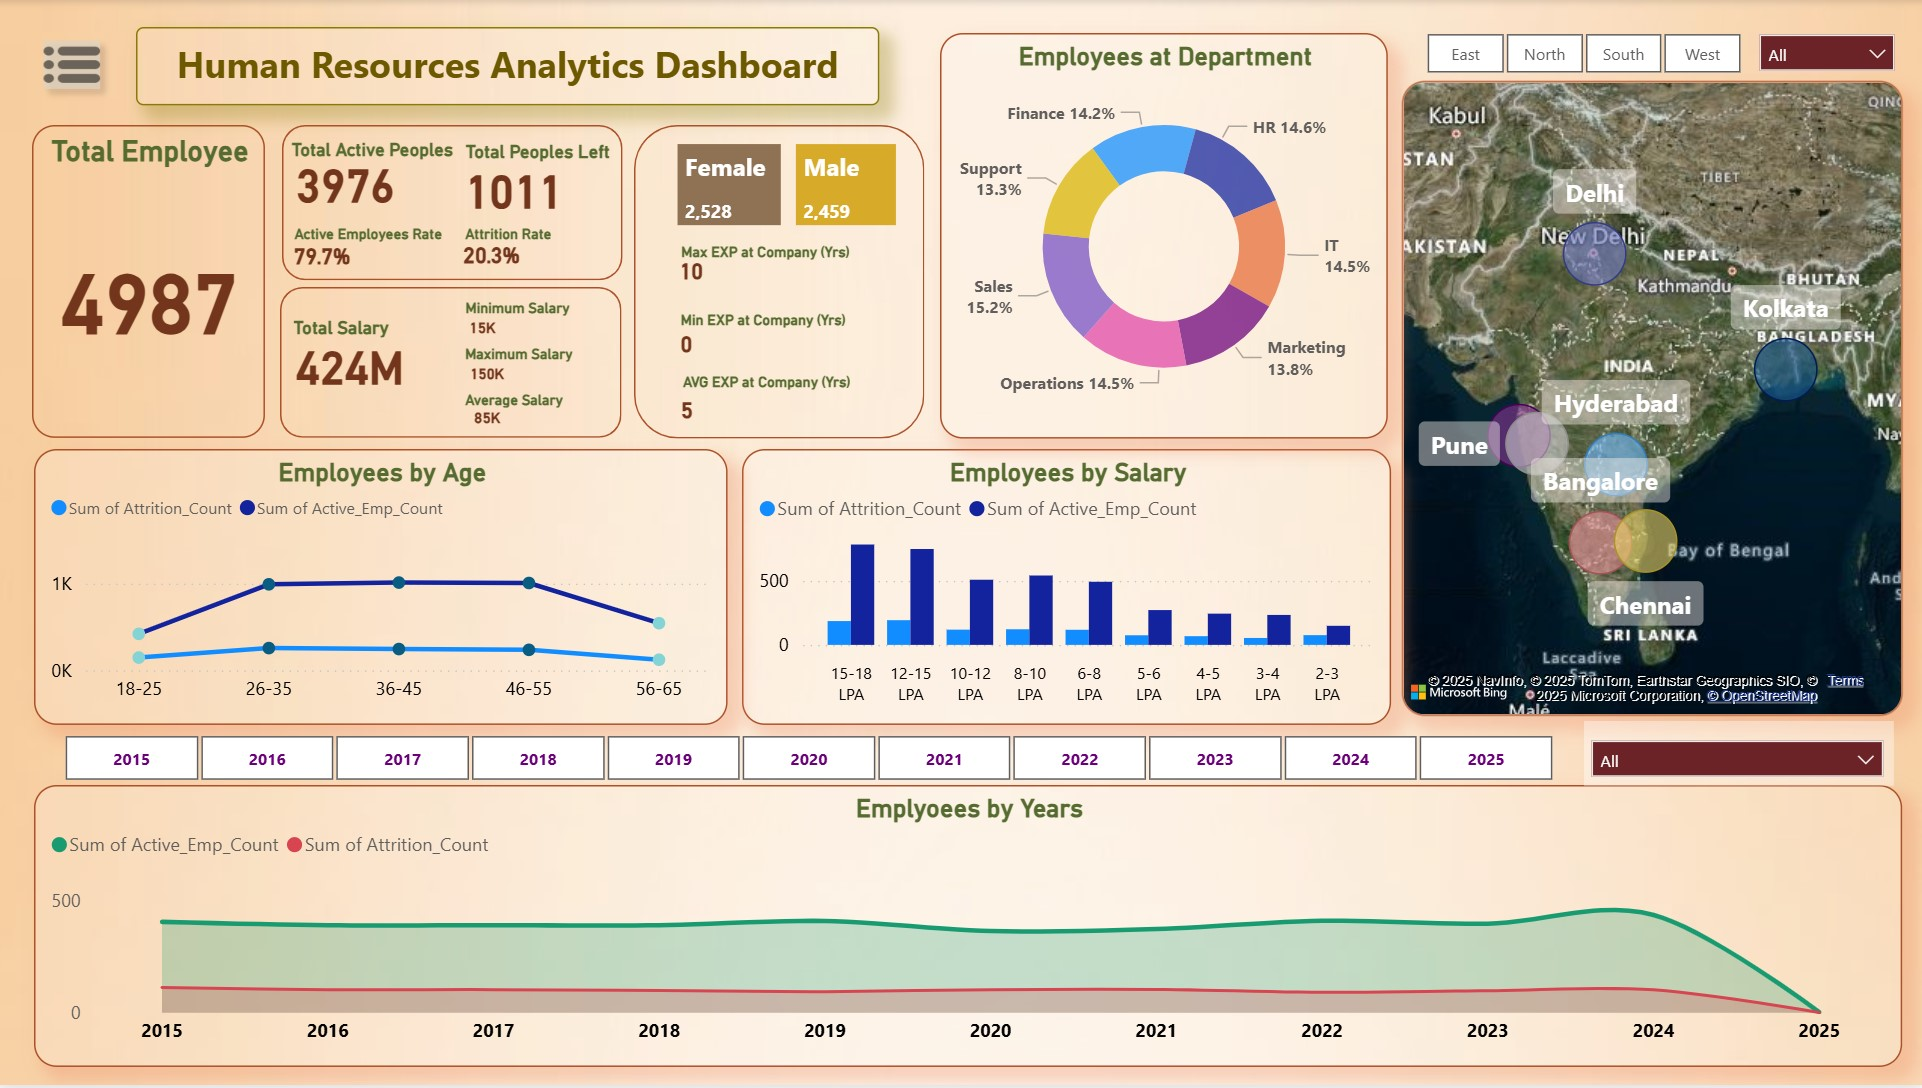

The dashboard page shown, as its layout file describes it:
{"tool":"powerbi","page":{"name":"Home","canvas":[1280,720],"ordinal":0},"visuals":[{"type":"group","id":"g1","title":"Home","box":[22,10,1243.8,698],"z":0},{"type":"card","title":"Total Employee","fields":{"Values":["CountNonNull(Dataset 5000 Rows - Sheet1.Emp_ID)"]},"box":[23.9,83.2,154.7,207.4],"z":0,"group":"g1"},{"type":"card","title":"Total Active Peoples","fields":{"Values":["Sum(Dataset 5000 Rows - Sheet1.Active_Emp_Count)"]},"box":[155.2,92.7,153,50],"z":1000,"group":"g1"},{"type":"card","title":"Active Employees Rate","fields":{"Values":["Dataset 5000 Rows - Sheet1.Active_Emp_rate"]},"box":[130.7,149.2,169.5,30.2],"z":2000,"group":"g1"},{"type":"card","title":"Average Salary","fields":{"Values":["Avg(Dataset 5000 Rows - Sheet1.Monthly_Salary)"]},"box":[270.3,259,110.5,33.5],"z":3000,"group":"g1"},{"type":"actionButton","title":"Menu Open Button","box":[22,18.3,55.3,50],"z":4000,"group":"g1"},{"type":"card","title":"AVG EXP at Company (Yrs)","fields":{"Values":["Avg(Dataset 5000 Rows - Sheet1.Exp_at_cur_Com)"]},"box":[344.1,247,226.5,45.7],"z":5000,"group":"g1"},{"type":"map","title":"People Around the County","fields":{"Category":["Dataset 5000 Rows - Sheet1.City"]},"box":[931.5,54.3,332.1,420.8],"z":6000,"group":"g1"},{"type":"areaChart","title":"Emplyoees by Years","fields":{"Category":["Dataset 5000 Rows - Sheet1.Joining_Date.Variation.Date Hierarchy.Year"],"Y":["Sum(Dataset 5000 Rows - Sheet1.Active_Emp_Count)","Sum(Dataset 5000 Rows - Sheet1.Attrition_Count)"]},"box":[24.8,521,1239,187],"z":7000,"group":"g1"},{"type":"treemap","title":"Average Salary","fields":{"Group":["Dataset 5000 Rows - Sheet1.Gender"],"Values":["CountNonNull(Dataset 5000 Rows - Sheet1.Emp_ID)"]},"box":[446.6,85.3,154.8,75.8],"z":8000,"group":"g1"},{"type":"textbox","box":[92,18.3,493.1,52],"z":9000,"group":"g1"},{"type":"card","title":"Total Peoples Left","fields":{"Values":["Sum(Dataset 5000 Rows - Sheet1.Attrition_Count)"]},"box":[274.2,92.9,137.6,54.7],"z":10000,"group":"g1"},{"type":"card","title":"Attrition Rate","fields":{"Values":["Dataset 5000 Rows - Sheet1.Attrition_rate"]},"box":[283.3,149,89.5,30],"z":11000,"group":"g1"},{"type":"card","title":"Maximum Salary","fields":{"Values":["Max(Dataset 5000 Rows - Sheet1.Monthly_Salary)"]},"box":[263.3,229,123.5,30],"z":12000,"group":"g1"},{"type":"card","title":"Minimum Salary","fields":{"Values":["Min(Dataset 5000 Rows - Sheet1.Monthly_Salary)"]},"box":[259.3,198,125.5,31],"z":13000,"group":"g1"},{"type":"card","title":"Total Salary","fields":{"Values":["Sum(Dataset 5000 Rows - Sheet1.Monthly_Salary)"]},"box":[192.3,210.5,84.5,55],"z":14000,"group":"g1"},{"type":"shape","box":[188.9,82.9,225.8,102.9],"z":15000,"group":"g1"},{"type":"shape","title":"Shape","box":[188.3,191,226.5,100],"z":16000,"group":"g1"},{"type":"card","title":"Max EXP at Company (Yrs)","fields":{"Values":["Max(Dataset 5000 Rows - Sheet1.Exp_at_cur_Com)"]},"box":[351.3,161.2,219.4,34.3],"z":17000,"group":"g1"},{"type":"card","title":"Min EXP at Company (Yrs)","fields":{"Values":["Min(Dataset 5000 Rows - Sheet1.Exp_at_cur_Com)"]},"box":[347,207,220.8,40],"z":18000,"group":"g1"},{"type":"shape","box":[422.3,83.2,192.6,207.9],"z":19000,"group":"g1"},{"type":"clusteredColumnChart","title":"Employees by Salary","fields":{"Category":["Dataset 5000 Rows - Sheet1.Salary_Group"],"Y":["Sum(Dataset 5000 Rows - Sheet1.Attrition_Count)","Sum(Dataset 5000 Rows - Sheet1.Active_Emp_Count)"]},"box":[493.9,297.9,430.7,182.9],"z":20000,"group":"g1"},{"type":"lineChart","title":"Employees by Age","fields":{"Category":["Dataset 5000 Rows - Sheet1.Age_Group"],"Y":["Sum(Dataset 5000 Rows - Sheet1.Attrition_Count)","Sum(Dataset 5000 Rows - Sheet1.Active_Emp_Count)"]},"box":[24.8,298,460,183],"z":21000,"group":"g1"},{"type":"slicer","title":"Average Salary","fields":{"Values":["Dataset 5000 Rows - Sheet1.Division"]},"box":[928.6,12.6,249.6,45.3],"z":22000,"group":"g1"},{"type":"pieChart","title":"Employees at Department","fields":{"Y":["CountNonNull(Dataset 5000 Rows - Sheet1.Emp_ID)"],"Series":["Dataset 5000 Rows - Sheet1.Department"]},"box":[625.3,22,297,269],"z":23000,"group":"g1"},{"type":"slicer","title":"Slicer City","fields":{"Values":["Dataset 5000 Rows - Sheet1.City"]},"box":[1164.2,10,101.6,47],"z":24000,"group":"g1"},{"type":"slicer","title":"Filter by Months","fields":{"Values":["Dataset 5000 Rows - Sheet1.Joining_Date.Variation.Date Hierarchy.Month"]},"box":[1053.3,478.1,205.3,43],"z":25000,"group":"g1"},{"type":"slicer","title":"Average Salary","fields":{"Values":["Dataset 5000 Rows - Sheet1.Joining_Date.Variation.Date Hierarchy.Year"]},"box":[24.8,478,1028,49],"z":26000,"group":"g1"}]}

Visuals, with their boxes in screenshot pixels (x1, y1, x2, y2), scaled from the page's 1280x720 canvas onto the 1922x1088 screenshot:
"Home" group: 33,15,1901,1070
"Total Employee" card: 36,126,268,439
"Total Active Peoples" card: 233,140,463,216
"Active Employees Rate" card: 196,225,451,271
"Average Salary" card: 406,391,572,442
"Menu Open Button" actionButton: 33,28,116,103
"AVG EXP at Company (Yrs)" card: 517,373,857,442
"People Around the County" map: 1399,82,1897,718
"Emplyoees by Years" areaChart: 37,787,1898,1070
"Average Salary" treemap: 671,129,903,243
textbox: 138,28,879,106
"Total Peoples Left" card: 412,140,618,223
"Attrition Rate" card: 425,225,560,270
"Maximum Salary" card: 395,346,581,391
"Minimum Salary" card: 389,299,578,346
"Total Salary" card: 289,318,416,401
shape: 284,125,623,281
"Shape" shape: 283,289,623,440
"Max EXP at Company (Yrs)" card: 527,244,857,295
"Min EXP at Company (Yrs)" card: 521,313,853,373
shape: 634,126,923,440
"Employees by Salary" clusteredColumnChart: 742,450,1388,727
"Employees by Age" lineChart: 37,450,728,727
"Average Salary" slicer: 1394,19,1769,87
"Employees at Department" pieChart: 939,33,1385,440
"Slicer City" slicer: 1748,15,1901,86
"Filter by Months" slicer: 1582,722,1890,787
"Average Salary" slicer: 37,722,1581,796
